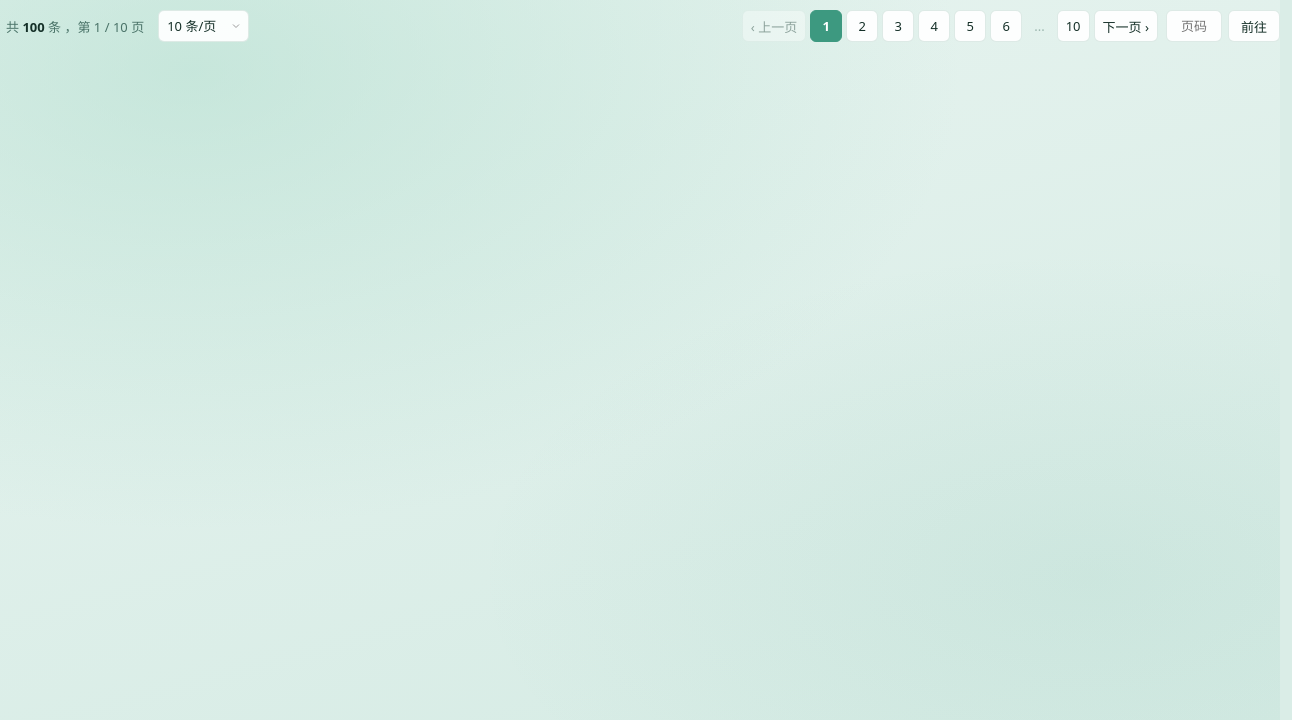
it: PaginationBar › 输入验证 › 空输入显示"请输入页码"
The image size is (1292, 720).
Step 1. Click the button "前往" → click(1254, 26), box [1228,10,1280,42]
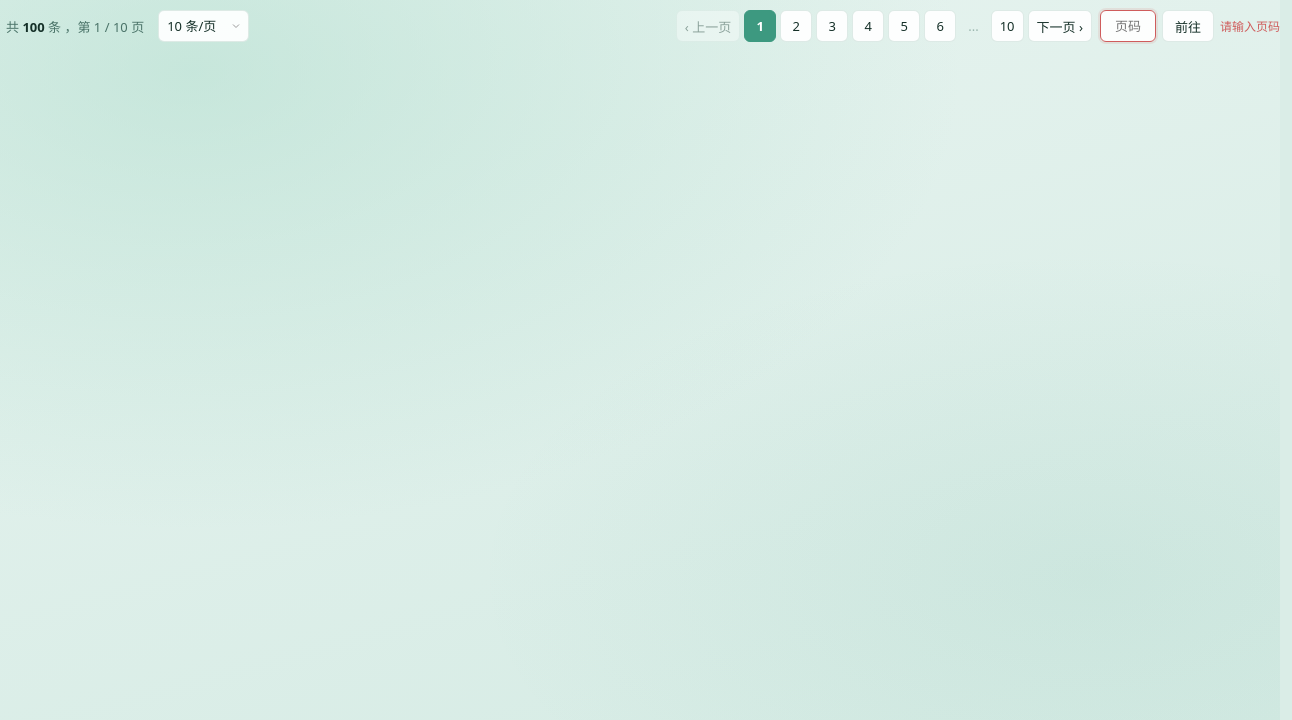
Now the message with class "jump-error" reads "请输入页码", box [1220,18,1280,35]
